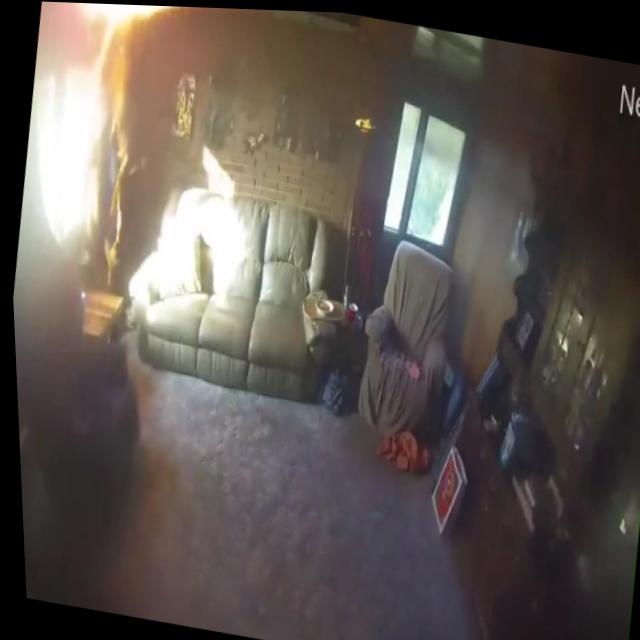fire: (82, 44, 154, 290), (66, 2, 201, 51)
